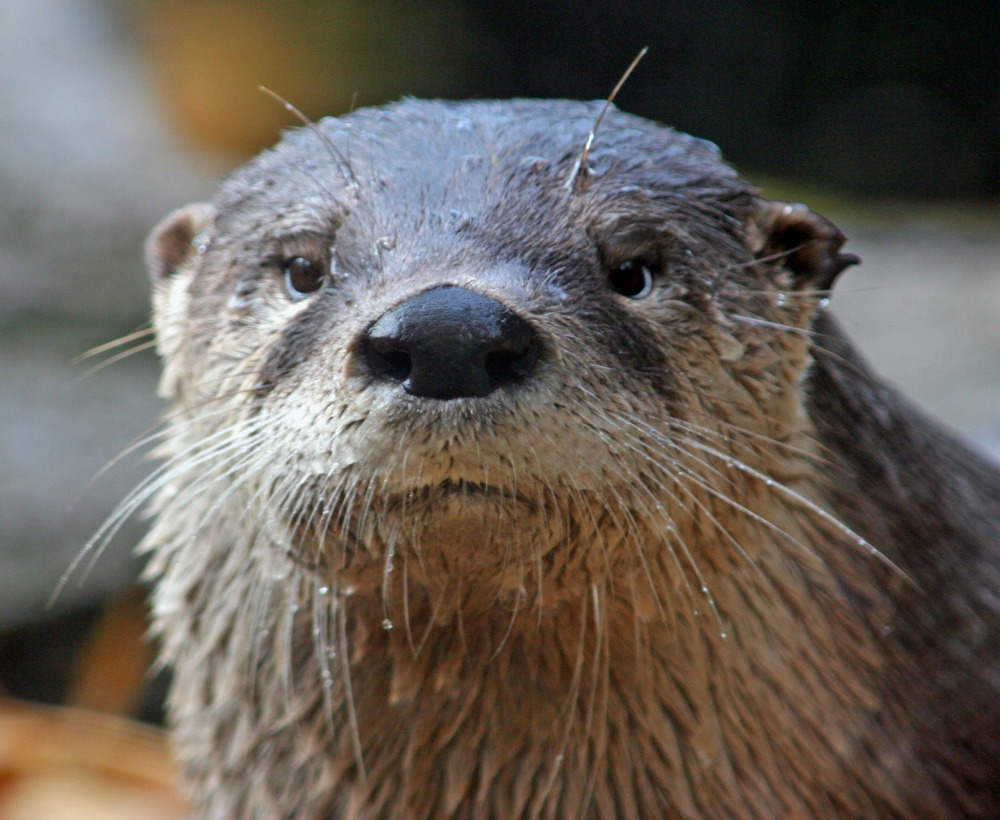otter: (104, 108, 986, 820)
